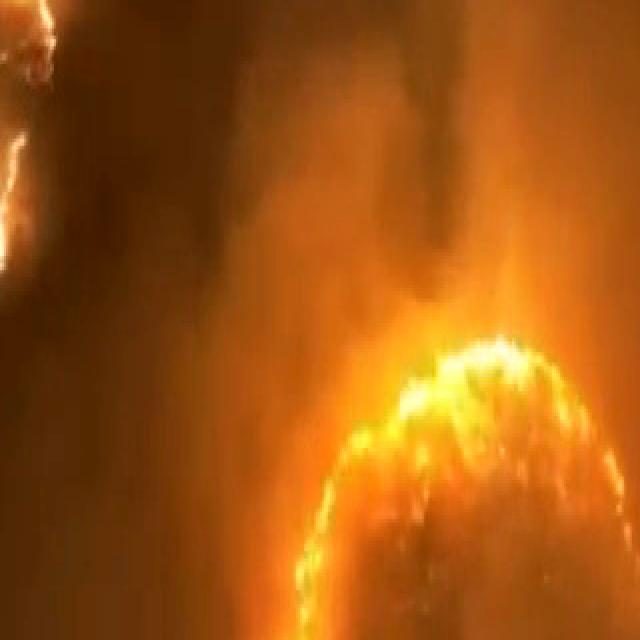fire: (320, 290, 608, 530)
smoke: (452, 0, 640, 149)
